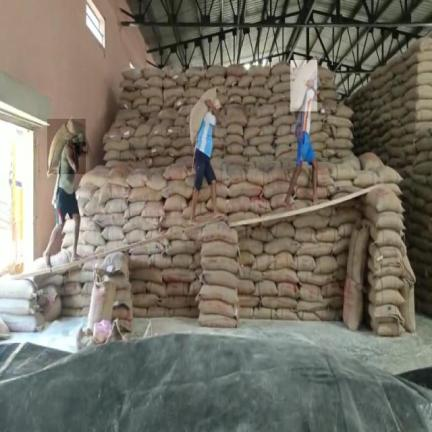Zone-Counting: (44, 119, 86, 265), (286, 60, 318, 206), (190, 88, 220, 219)
